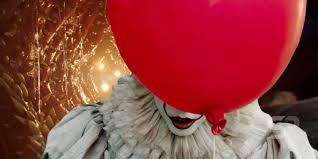red: (105, 0, 307, 135)
